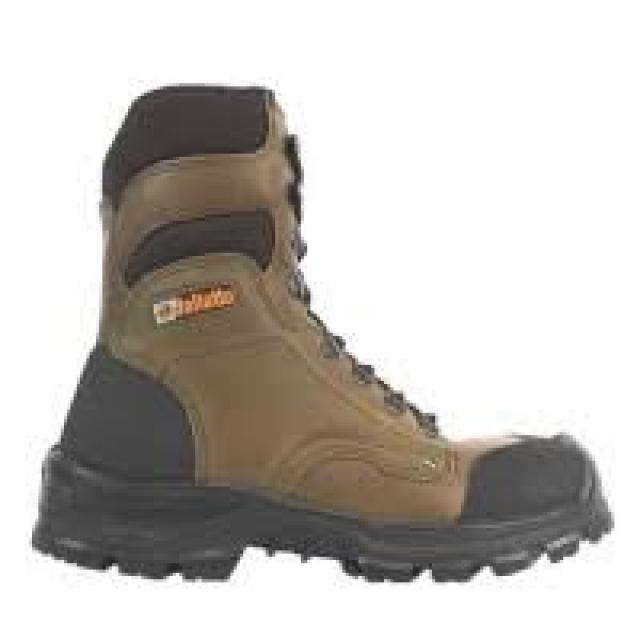shoes: (32, 85, 607, 580)
